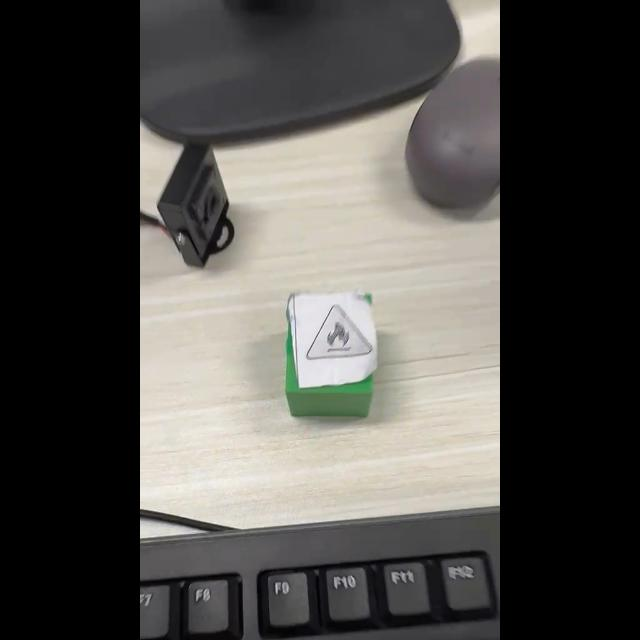Fire: (306, 304, 372, 362)
